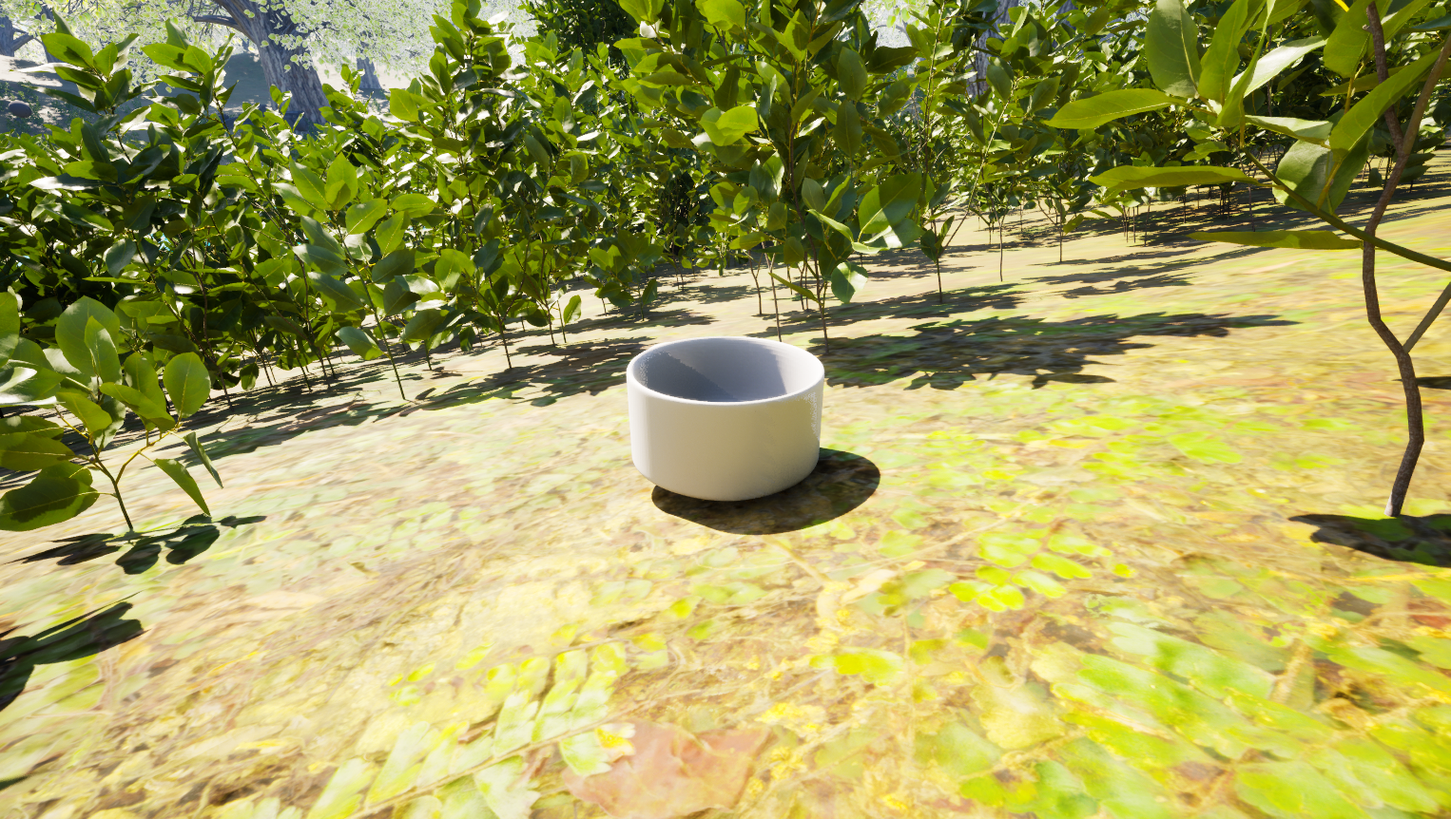Teacup: (616, 327, 846, 506)
